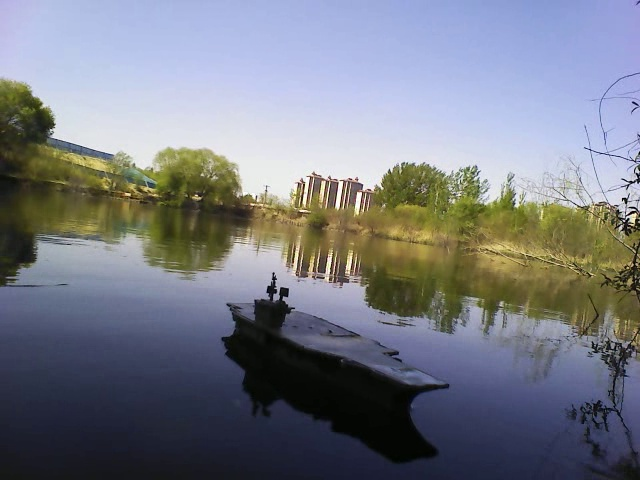aircraft_carrier: (226, 279, 453, 397)
